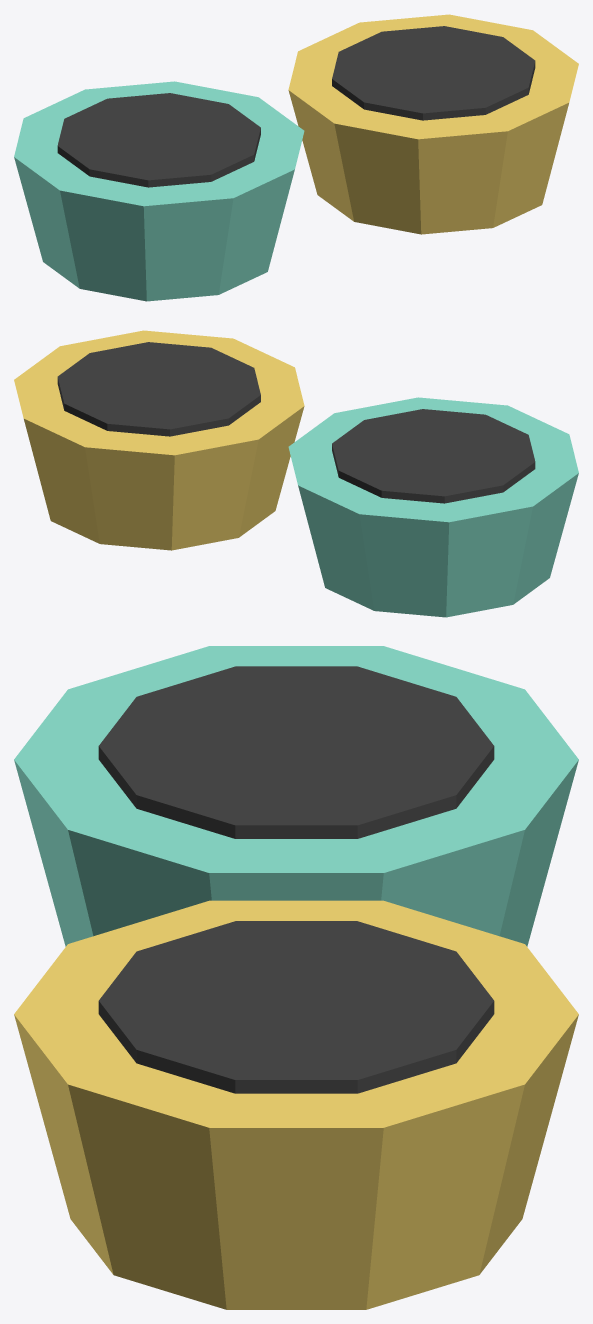
The picture shows the model from 3 angles, top to bottom: view 1: azimuth 30°, elevation 25°; view 2: azimuth 150°, elevation 25°; view 3: azimuth 270°, elevation 25°; orthographic projection. The views are drawn at different scales.
Parts seen in each view (by area): view 1: Bowl, Bowl.001, Inset.001, Inset; view 2: Bowl, Bowl.001, Inset.001, Inset; view 3: Bowl.001, Bowl, Inset, Inset.001.
Boxes of the visible parts, box(x1,y1,x2,y2) form: Bowl: box(14, 81, 304, 301); Bowl.001: box(288, 14, 578, 234); Inset.001: box(332, 26, 535, 120); Inset: box(57, 93, 260, 187); Bowl: box(288, 397, 578, 617); Bowl.001: box(14, 330, 304, 550); Inset.001: box(57, 342, 260, 436); Inset: box(332, 409, 535, 503); Bowl.001: box(14, 900, 578, 1309); Bowl: box(14, 646, 578, 946); Inset: box(98, 666, 494, 838); Inset.001: box(98, 921, 494, 1093).
Size of the model in its own units: 0.6053 by 0.128 by 0.3.
Materials: 1 (1 with a texture image).
